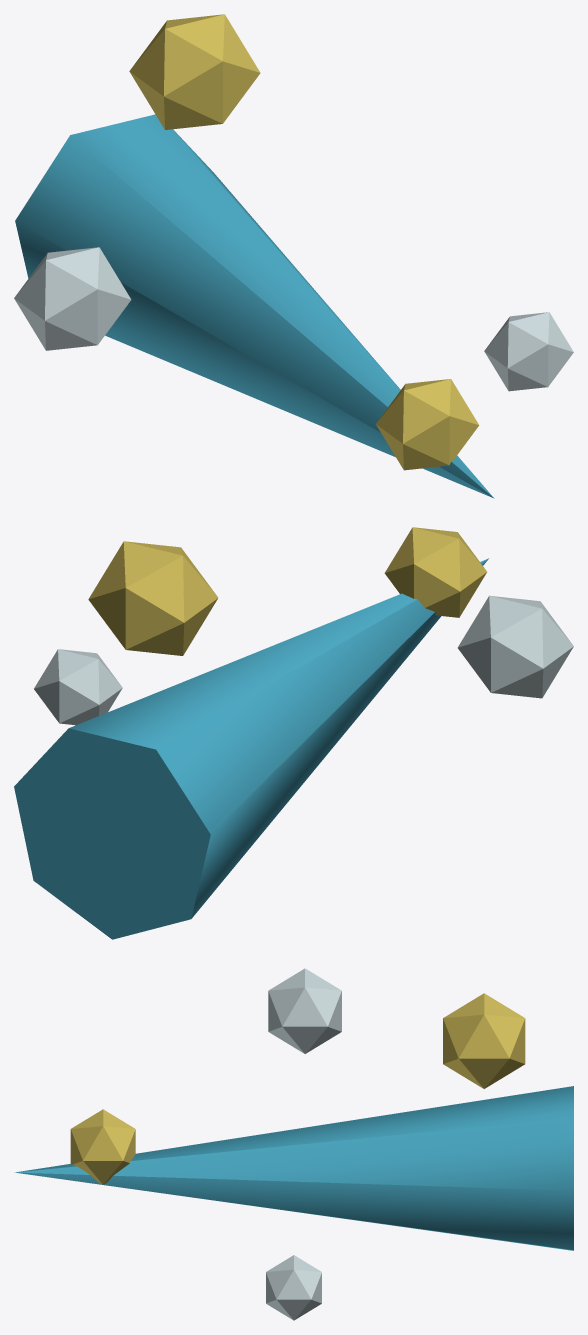
Rendered from arcane_staff.glb.
3 views of the same model, one above another, from view 1: azimuth 30°, elevation 25°; view 2: azimuth 150°, elevation 25°; view 3: azimuth 270°, elevation 25° (orthographic). The views are drawn at different scales.
Parts seen in each view (by area): view 1: arcane_staff_trail, arcane_staff_spark_3, arcane_staff_spark_2, arcane_staff_spark_1, arcane_staff_spark_0; view 2: arcane_staff_trail, arcane_staff_spark_3, arcane_staff_spark_2, arcane_staff_spark_1, arcane_staff_spark_0; view 3: arcane_staff_trail, arcane_staff_spark_3, arcane_staff_spark_2, arcane_staff_spark_1, arcane_staff_spark_0.
Part boxes in pixels (x1,y1,x2,y2): arcane_staff_trail: (15,114,494,498); arcane_staff_spark_3: (129,14,260,129); arcane_staff_spark_2: (14,247,131,350); arcane_staff_spark_1: (376,379,479,470); arcane_staff_spark_0: (484,312,573,391); arcane_staff_trail: (14,558,488,939); arcane_staff_spark_3: (88,541,218,655); arcane_staff_spark_2: (457,595,573,698); arcane_staff_spark_1: (384,527,486,617); arcane_staff_spark_0: (34,649,122,725); arcane_staff_trail: (14,1086,573,1250); arcane_staff_spark_3: (443,993,525,1088); arcane_staff_spark_2: (268,968,341,1053); arcane_staff_spark_1: (70,1109,135,1184); arcane_staff_spark_0: (266,1255,321,1320).
Size of what is drawn, in the model's own units: 1.75 by 1.1 by 2.2.
